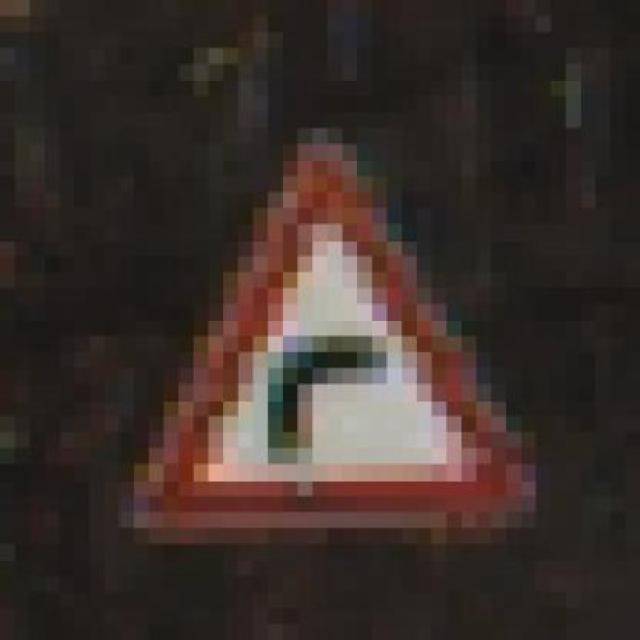Dangerous Rright Curve Ahead: (102, 124, 548, 556)
